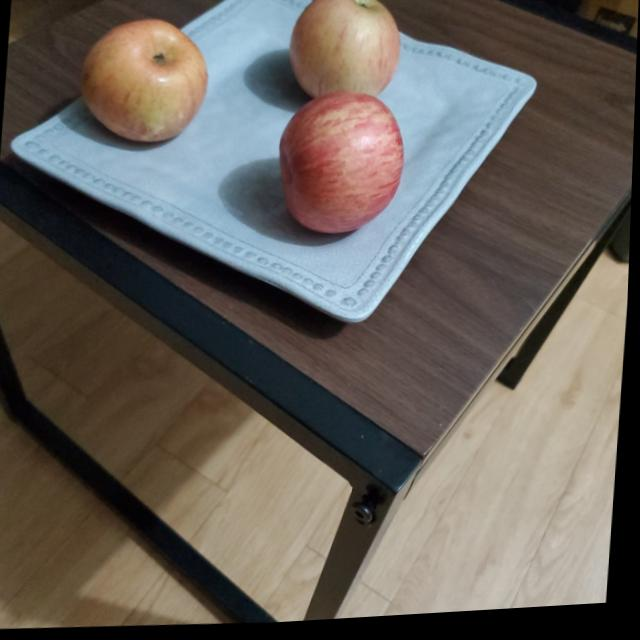apple: (275, 92, 409, 240), (77, 9, 214, 150), (283, 0, 408, 112)
